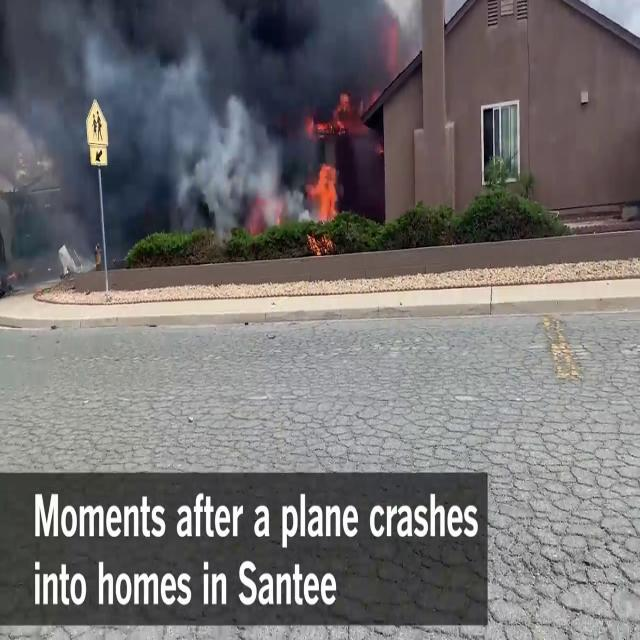Fire: (308, 152, 342, 232)
Smoke: (0, 0, 374, 256)
